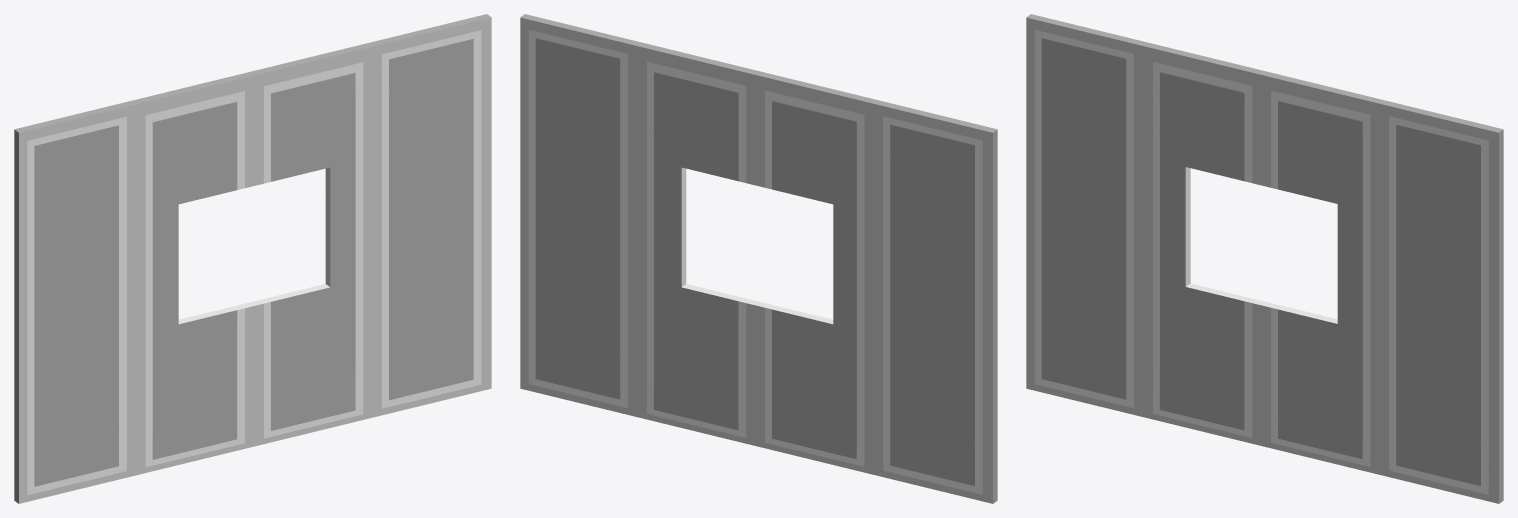
The model's file is Wall_Gray_Window.fbx.
The picture shows the model from 3 angles, left to right: view 1: azimuth 30°, elevation 25°; view 2: azimuth 150°, elevation 25°; view 3: azimuth 330°, elevation 25°; orthographic projection.
Visible parts, largest first — view 1: Wall_Gray_Window; view 2: Wall_Gray_Window; view 3: Wall_Gray_Window.
Part boxes in pixels (box(x1,y1,x2,y2)): Wall_Gray_Window: box(14, 14, 491, 503); Wall_Gray_Window: box(520, 14, 997, 503); Wall_Gray_Window: box(1026, 14, 1503, 503).
Size of the model in its own units: 400 by 300 by 7.
